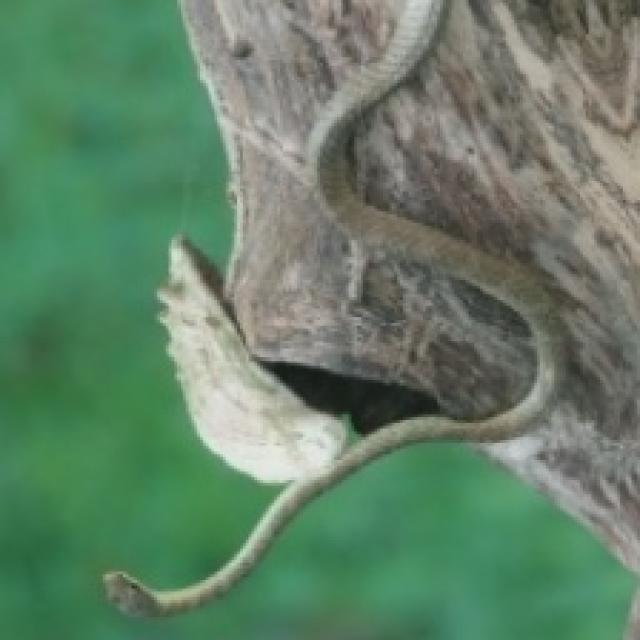paradise tree snake: (106, 0, 637, 611)
